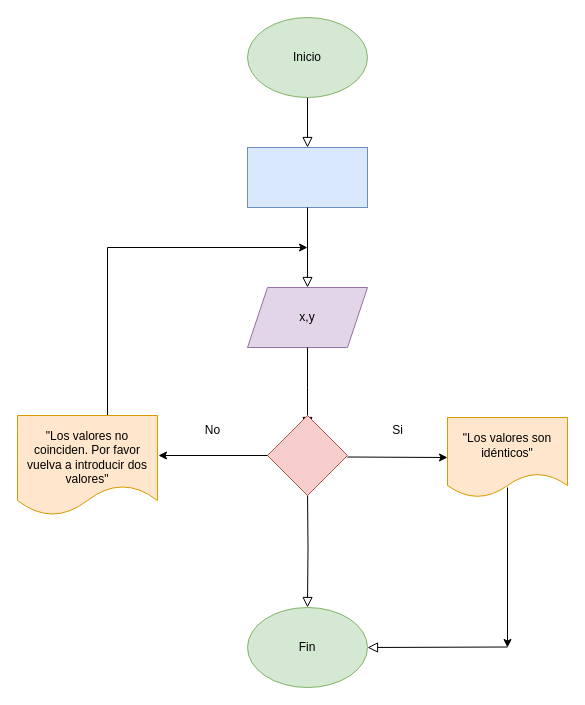
The diagram is 585 pixels wide and 705 high, and some of its shapes have lost their labels. The shapes that lost their labels are listed below. From the top down, each one's centre as x and y in pixels, then its label:
(x=307, y=177): int x,y
(x=307, y=455): ¿x = y?
